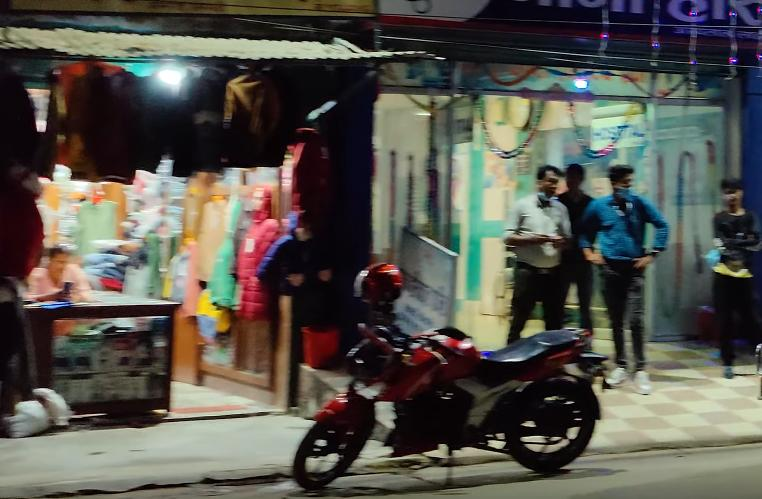bike: (284, 265, 607, 499)
